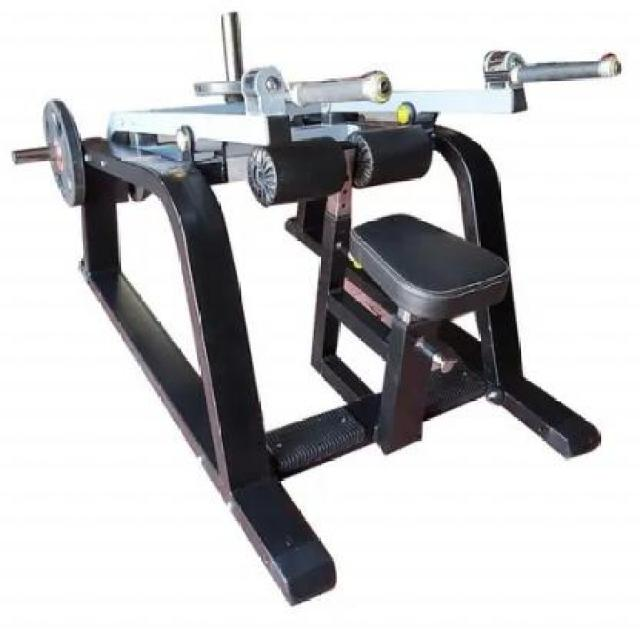seated dip machine: (12, 10, 623, 608)
